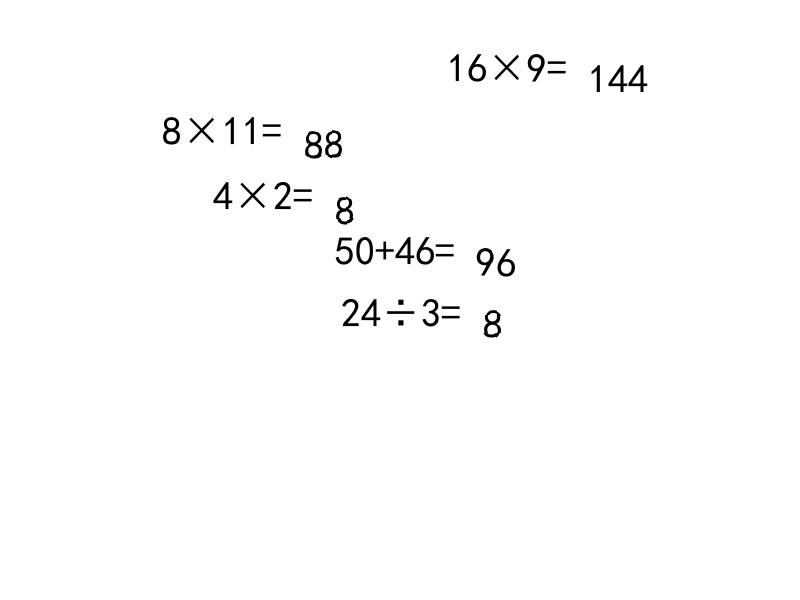+: (375, 230, 395, 259)
0: (355, 230, 375, 259)
1: (447, 47, 467, 75), (577, 47, 597, 75), (222, 110, 242, 138), (242, 110, 262, 138)
2: (273, 175, 293, 204), (341, 292, 361, 321)
3: (421, 292, 441, 321)
4: (213, 175, 233, 204), (395, 230, 415, 259), (361, 292, 381, 321), (597, 47, 617, 75), (617, 47, 637, 75)
5: (335, 230, 355, 259)
6: (415, 230, 435, 259), (485, 230, 505, 259), (467, 47, 487, 75)
8: (323, 175, 343, 204), (471, 292, 491, 321), (162, 110, 182, 138), (292, 110, 312, 138), (312, 110, 332, 138)
9: (465, 230, 485, 259), (527, 47, 547, 75)
=: (293, 175, 313, 204), (435, 230, 455, 259), (441, 292, 461, 321), (547, 47, 567, 75), (262, 110, 282, 138)
×: (233, 175, 273, 204), (487, 47, 527, 75), (182, 110, 222, 138)
÷: (381, 292, 421, 321)
